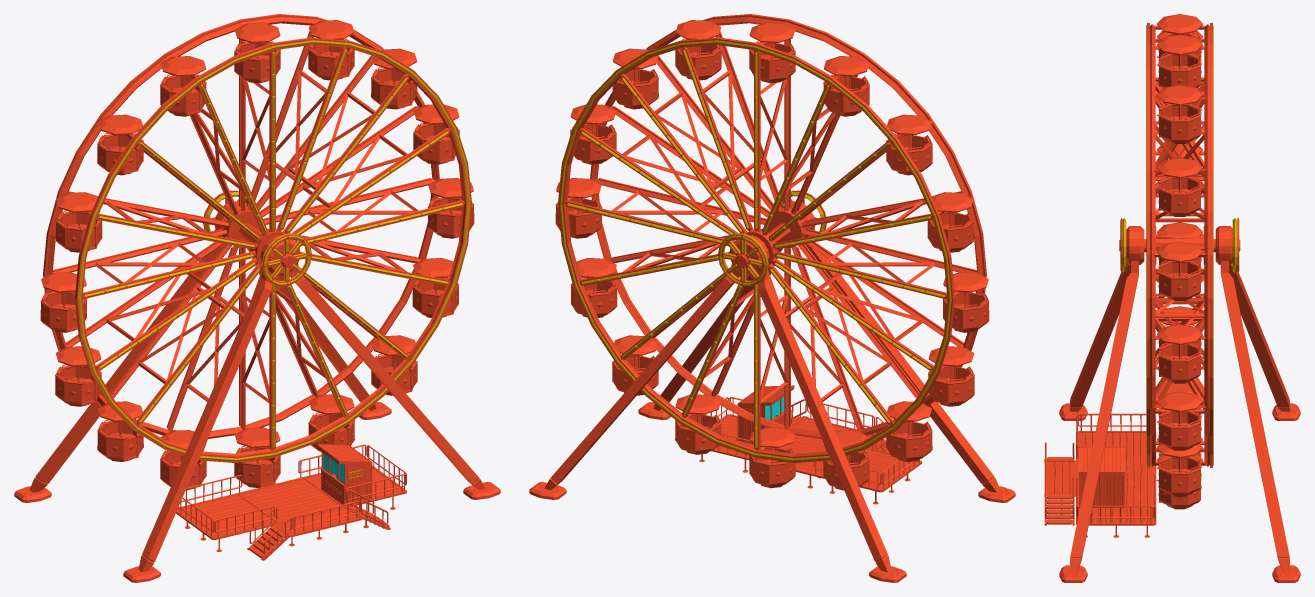
The model's file is SM_FerrisWheel_City.fbx.
3 renders of one model, left to right at view 1: azimuth 30°, elevation 25°; view 2: azimuth 150°, elevation 25°; view 3: azimuth 270°, elevation 25°, orthographic. The views are drawn at different scales.
Parts seen in each view (by area): view 1: SM_FerrisWheel_City_Base; view 2: SM_FerrisWheel_City_Base; view 3: SM_FerrisWheel_City_Base.
Boxes of the visible parts, x1=… form: SM_FerrisWheel_City_Base: x1=14, y1=14, x2=500, y2=582; SM_FerrisWheel_City_Base: x1=529, y1=14, x2=1015, y2=582; SM_FerrisWheel_City_Base: x1=1044, y1=14, x2=1300, y2=582.
Size of the model in its own units: 25.97 by 26.94 by 13.8.
